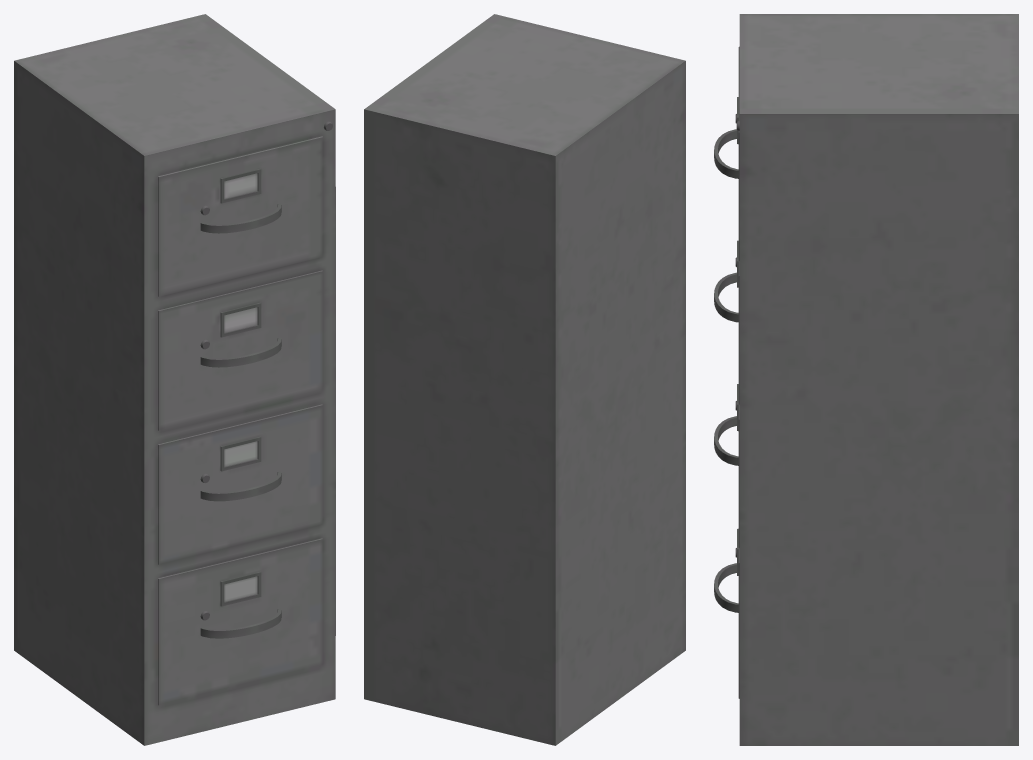
File: Filing_Cabinets_4.obj
3 renders of one model, left to right at view 1: azimuth 30°, elevation 25°; view 2: azimuth 150°, elevation 25°; view 3: azimuth 270°, elevation 25°, orthographic. The views are drawn at different scales.
Parts seen in each view (by area): view 1: g0; view 2: g0; view 3: g0.
Boxes of the visible parts, x1=… form: g0: x1=14, y1=14, x2=335, y2=745; g0: x1=364, y1=14, x2=685, y2=745; g0: x1=714, y1=14, x2=1018, y2=745.
Size of the model in its own units: 0.4498 by 1.32 by 0.5788.
1 material, 1 textured.
